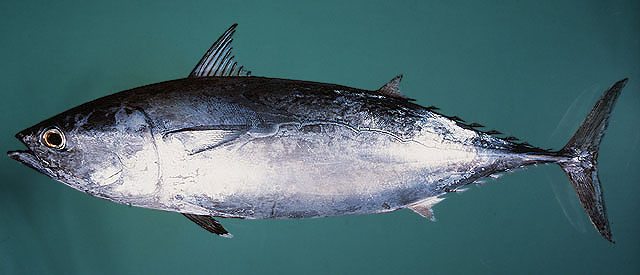fish: (6, 22, 626, 248)
